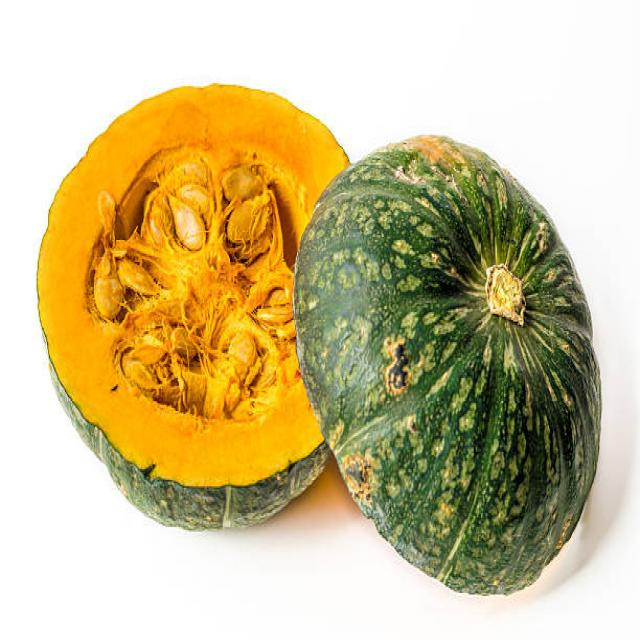pumpkin: (297, 127, 604, 607), (33, 75, 292, 523)
